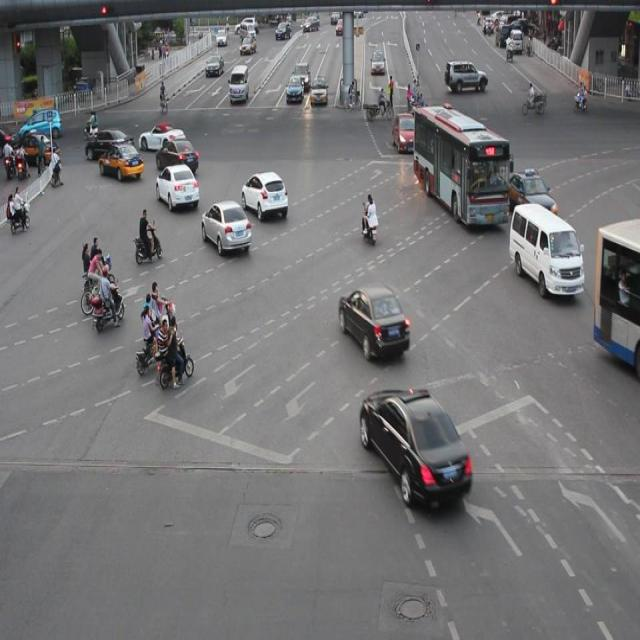car: (359, 384, 472, 507), (338, 282, 411, 358), (201, 198, 251, 254), (505, 169, 556, 222), (240, 170, 288, 219), (156, 162, 199, 208), (98, 139, 144, 180), (85, 125, 134, 161), (155, 136, 198, 176), (138, 121, 185, 152), (392, 111, 421, 153)
truck: (507, 200, 582, 292)
van: (412, 105, 508, 226), (594, 219, 640, 375)
